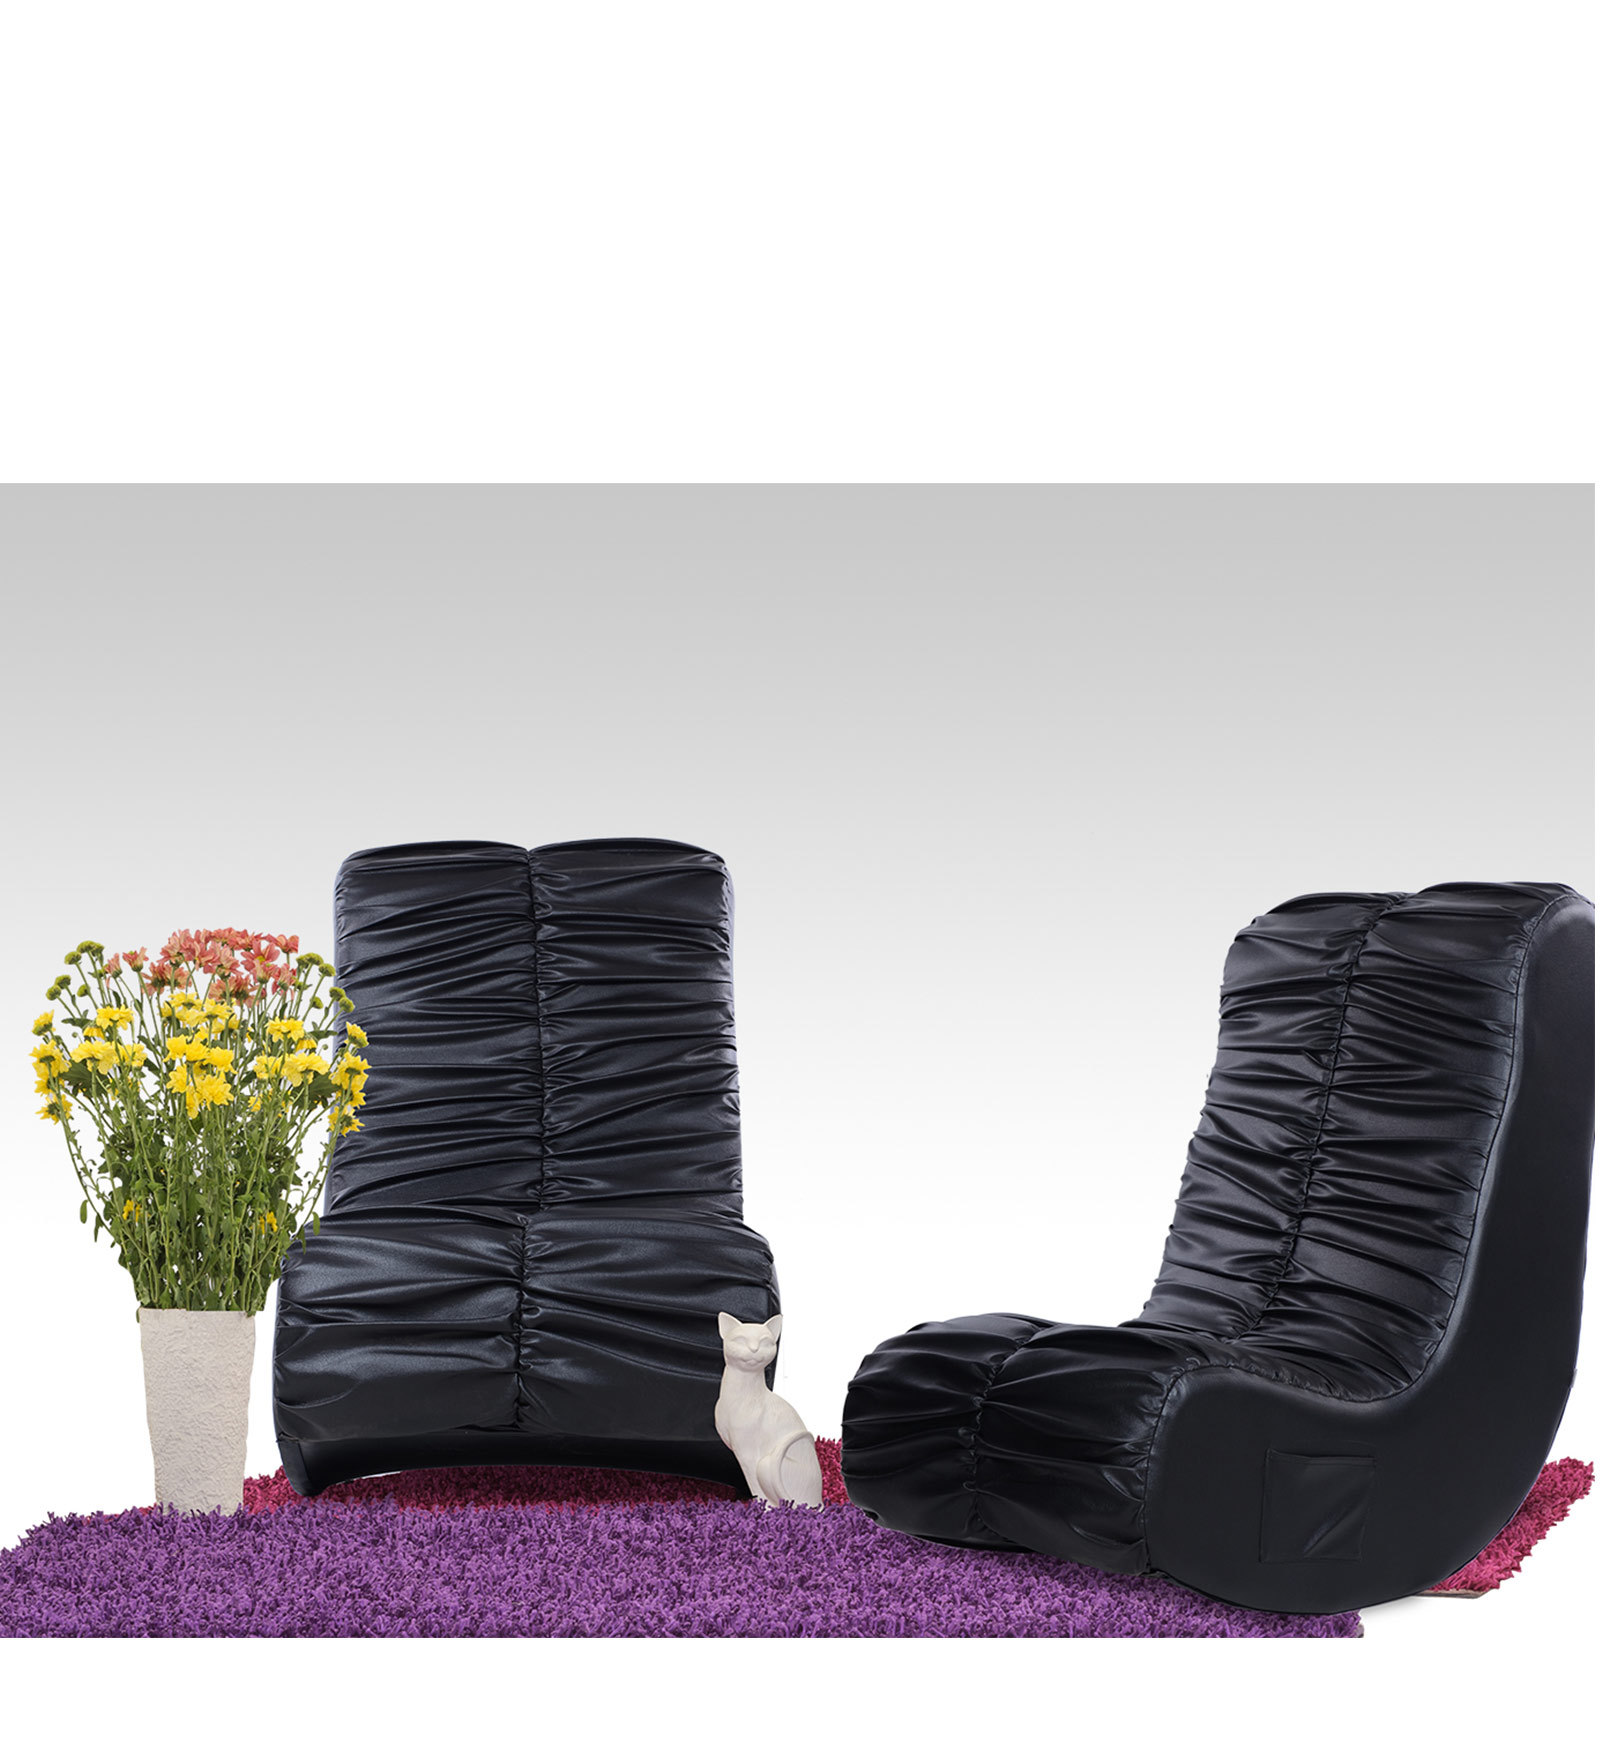Low Seat Rocking Chair in Black Leatherette by Durian: (844, 826, 1575, 1611), (277, 806, 789, 1519)
